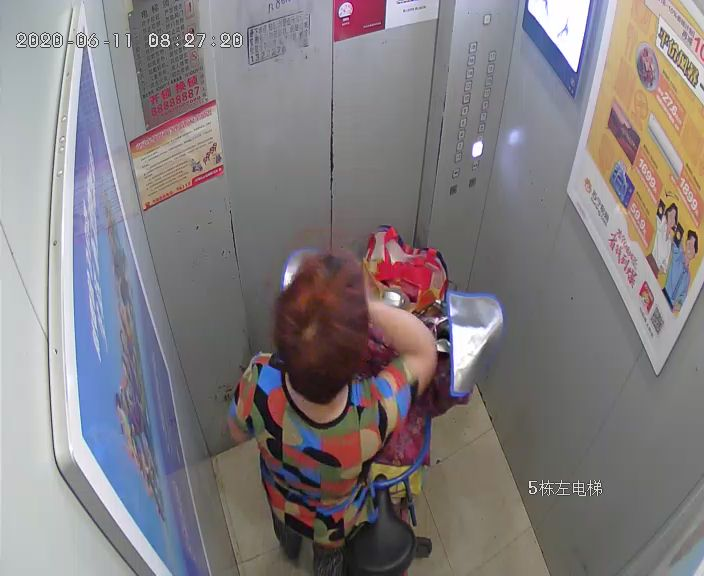Electric-bicycle: (346, 226, 505, 574)
